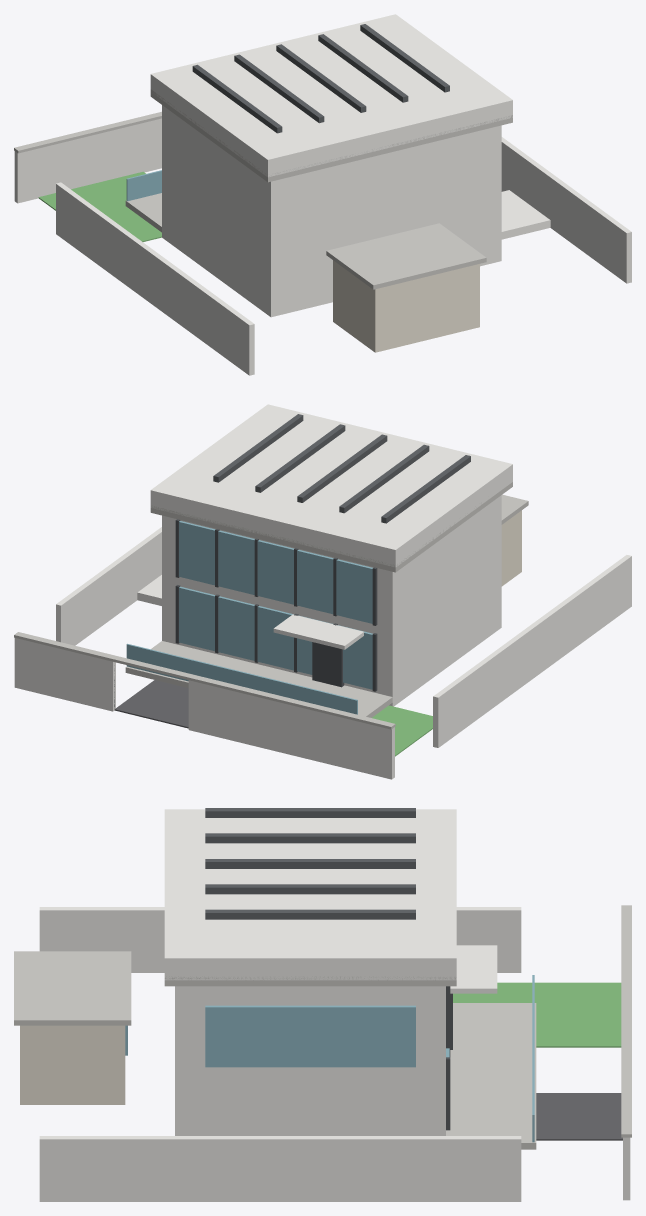
The model's file is lekki_duplex_a.glb.
3 renders of one model, top to bottom at view 1: azimuth 30°, elevation 25°; view 2: azimuth 150°, elevation 25°; view 3: azimuth 270°, elevation 25°, orthographic. The views are drawn at different scales.
Parts seen in each view (by area): view 1: BLD_lekki_duplex_a; view 2: BLD_lekki_duplex_a; view 3: BLD_lekki_duplex_a.
Boxes of the visible parts, x1,y1,x2,y2 form: BLD_lekki_duplex_a: (14,14,631,375); BLD_lekki_duplex_a: (14,404,631,779); BLD_lekki_duplex_a: (14,808,631,1201).
Size of the model in its own units: 18.25 by 8.02 by 20.52.
